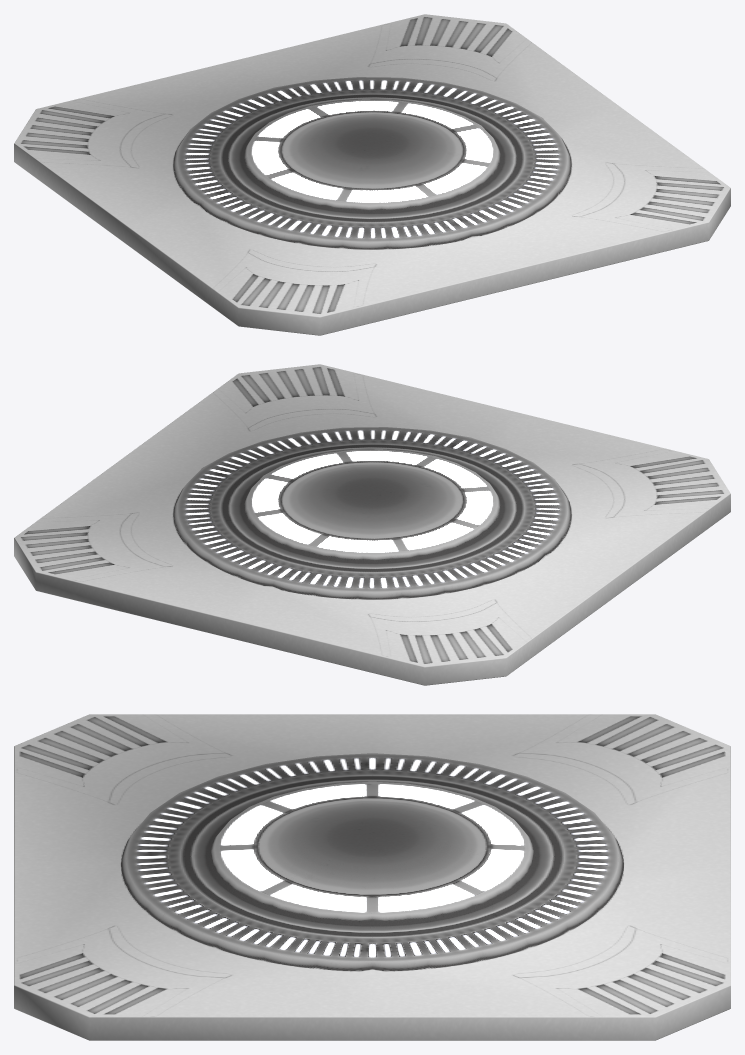
The model's file is Teleport01.FBX.
The picture shows the model from 3 angles, top to bottom: view 1: azimuth 30°, elevation 25°; view 2: azimuth 150°, elevation 25°; view 3: azimuth 270°, elevation 25°; orthographic projection. The views are drawn at different scales.
Visible parts, largest first — view 1: Teleport01; view 2: Teleport01; view 3: Teleport01.
Part boxes in pixels (x1=…): Teleport01: x1=14, y1=14, x2=730, y2=335; Teleport01: x1=14, y1=364, x2=730, y2=685; Teleport01: x1=14, y1=714, x2=730, y2=1040.
Size of what is drawn, in the model's own units: 1.4 by 0.1118 by 1.4.
